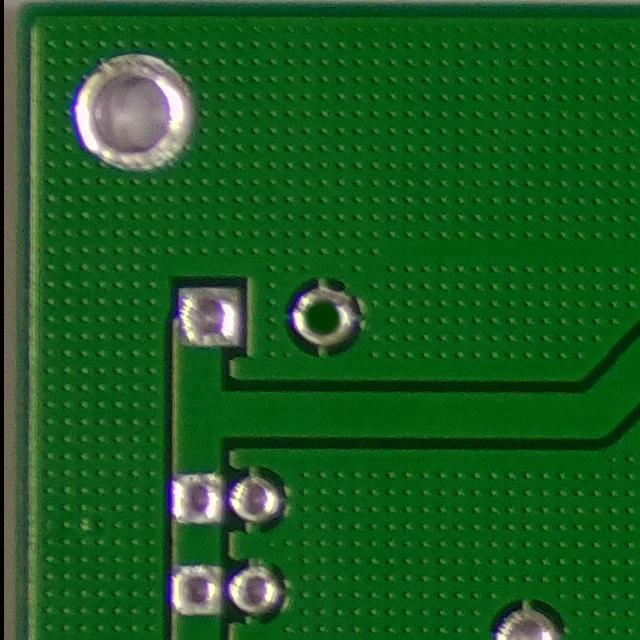missing_hole: (283, 280, 357, 360)
